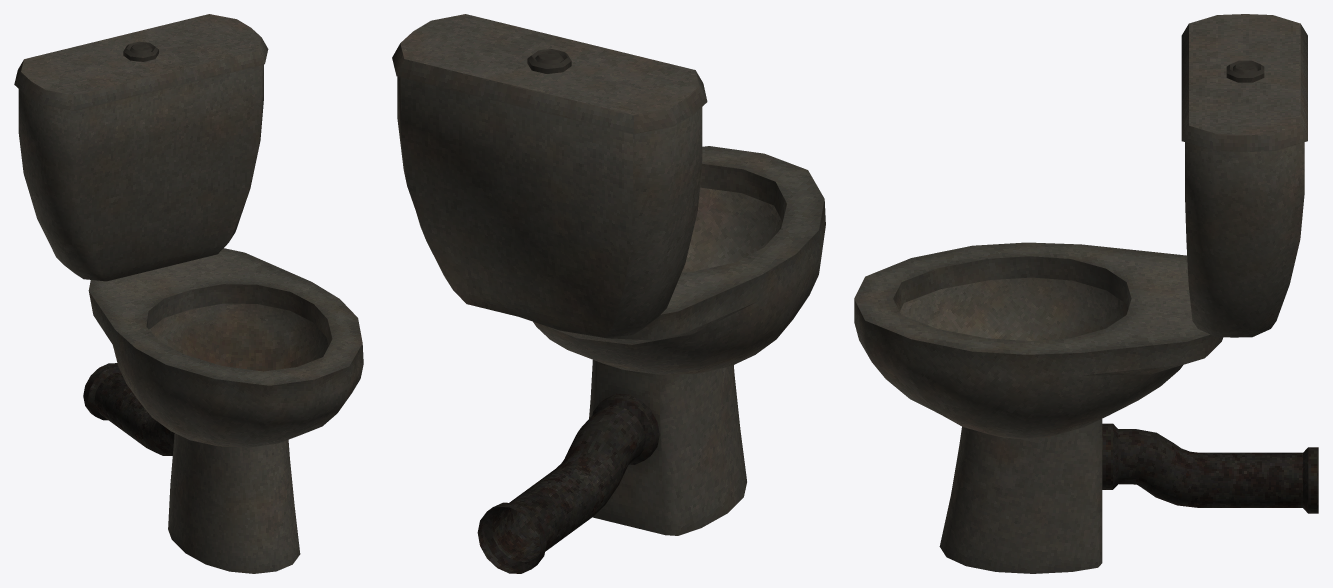
Rendered from toilet.glb.
3 renders of one model, left to right at view 1: azimuth 30°, elevation 25°; view 2: azimuth 150°, elevation 25°; view 3: azimuth 270°, elevation 25°, orthographic. The views are drawn at different scales.
Visible parts, largest first — view 1: toilet_mp_1; view 2: toilet_mp_1; view 3: toilet_mp_1.
Part boxes in pixels (<box>): toilet_mp_1: <box>14,14,363,573</box>; toilet_mp_1: <box>392,14,825,573</box>; toilet_mp_1: <box>854,14,1318,573</box>.
Size of the model in its own units: 0.5728 by 1.01 by 0.8822.
Materials: 2 (2 with a texture image).
